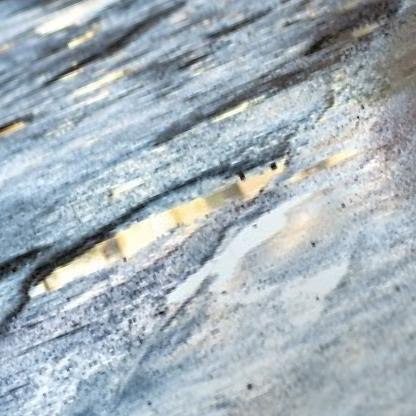pothole: (4, 137, 307, 304), (303, 5, 403, 61), (0, 243, 51, 311), (0, 113, 35, 164), (173, 52, 208, 73)
